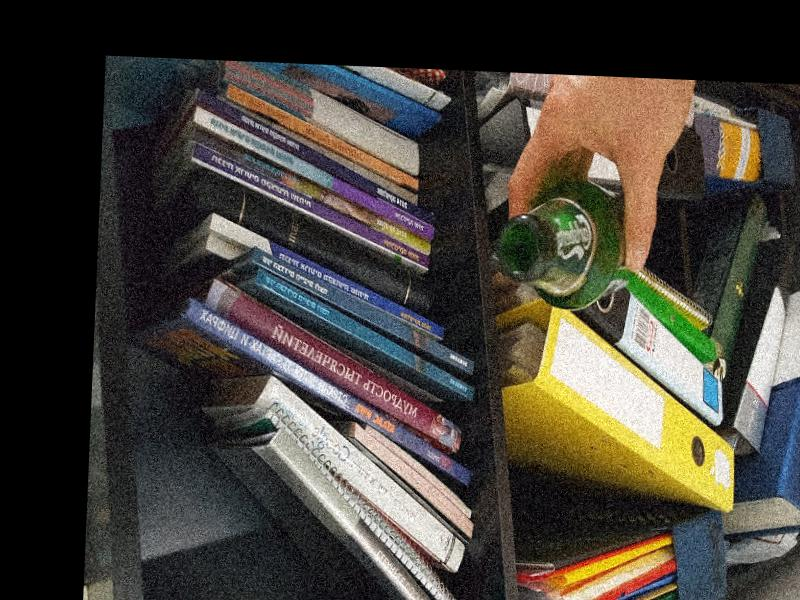Beer: (498, 181, 639, 311)
